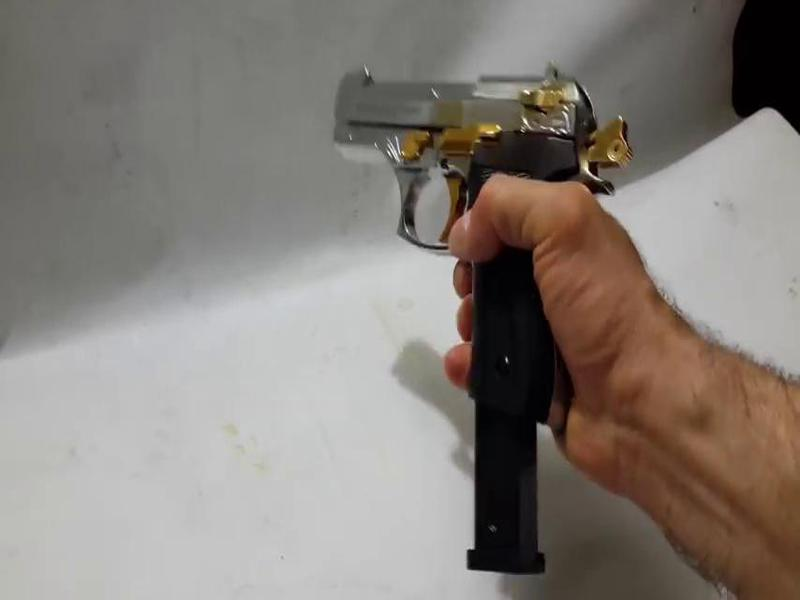Pistola: (321, 58, 628, 409)
